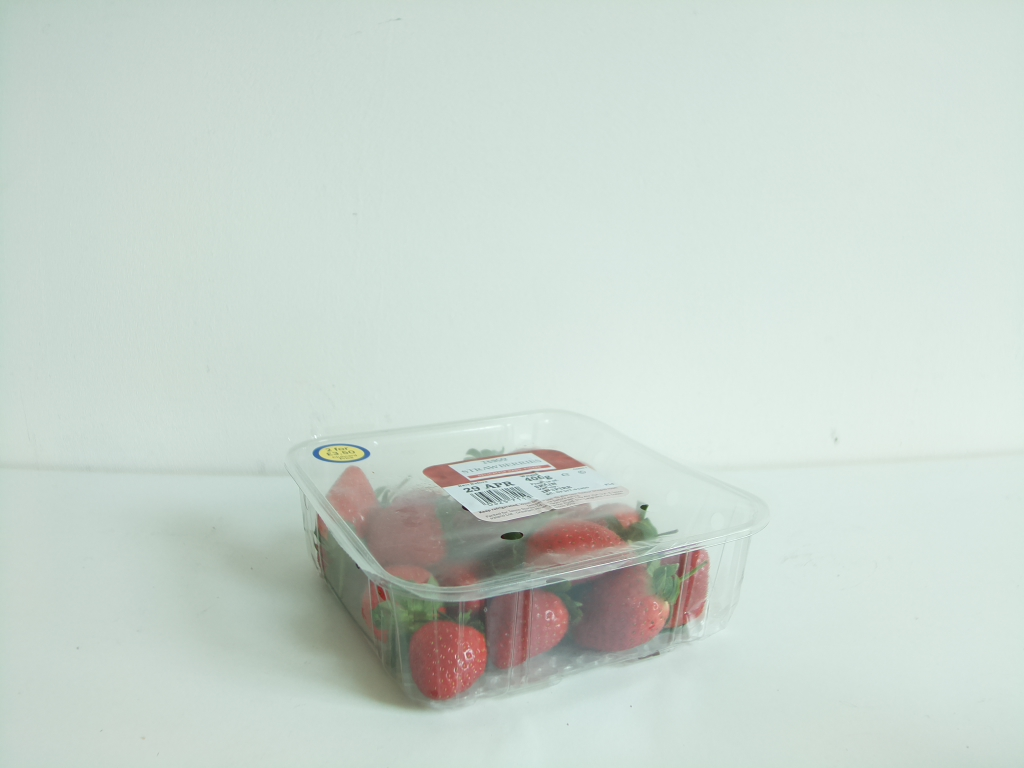soft-fruit: (282, 410, 756, 714)
